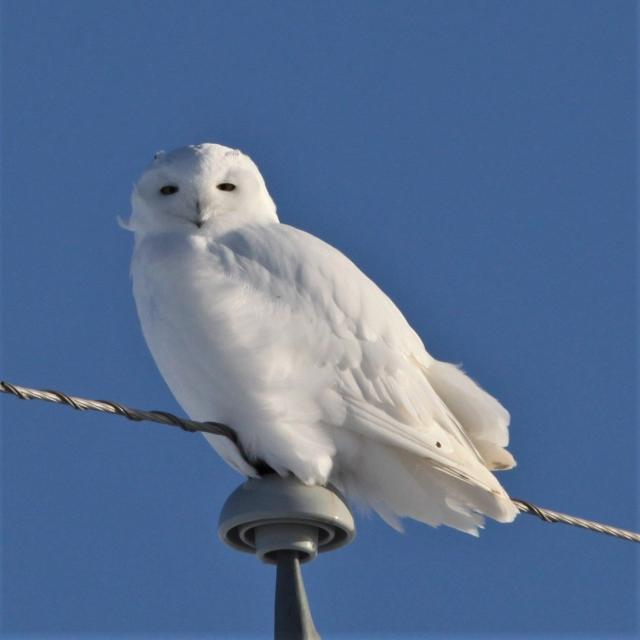Owl: (122, 141, 515, 529)
